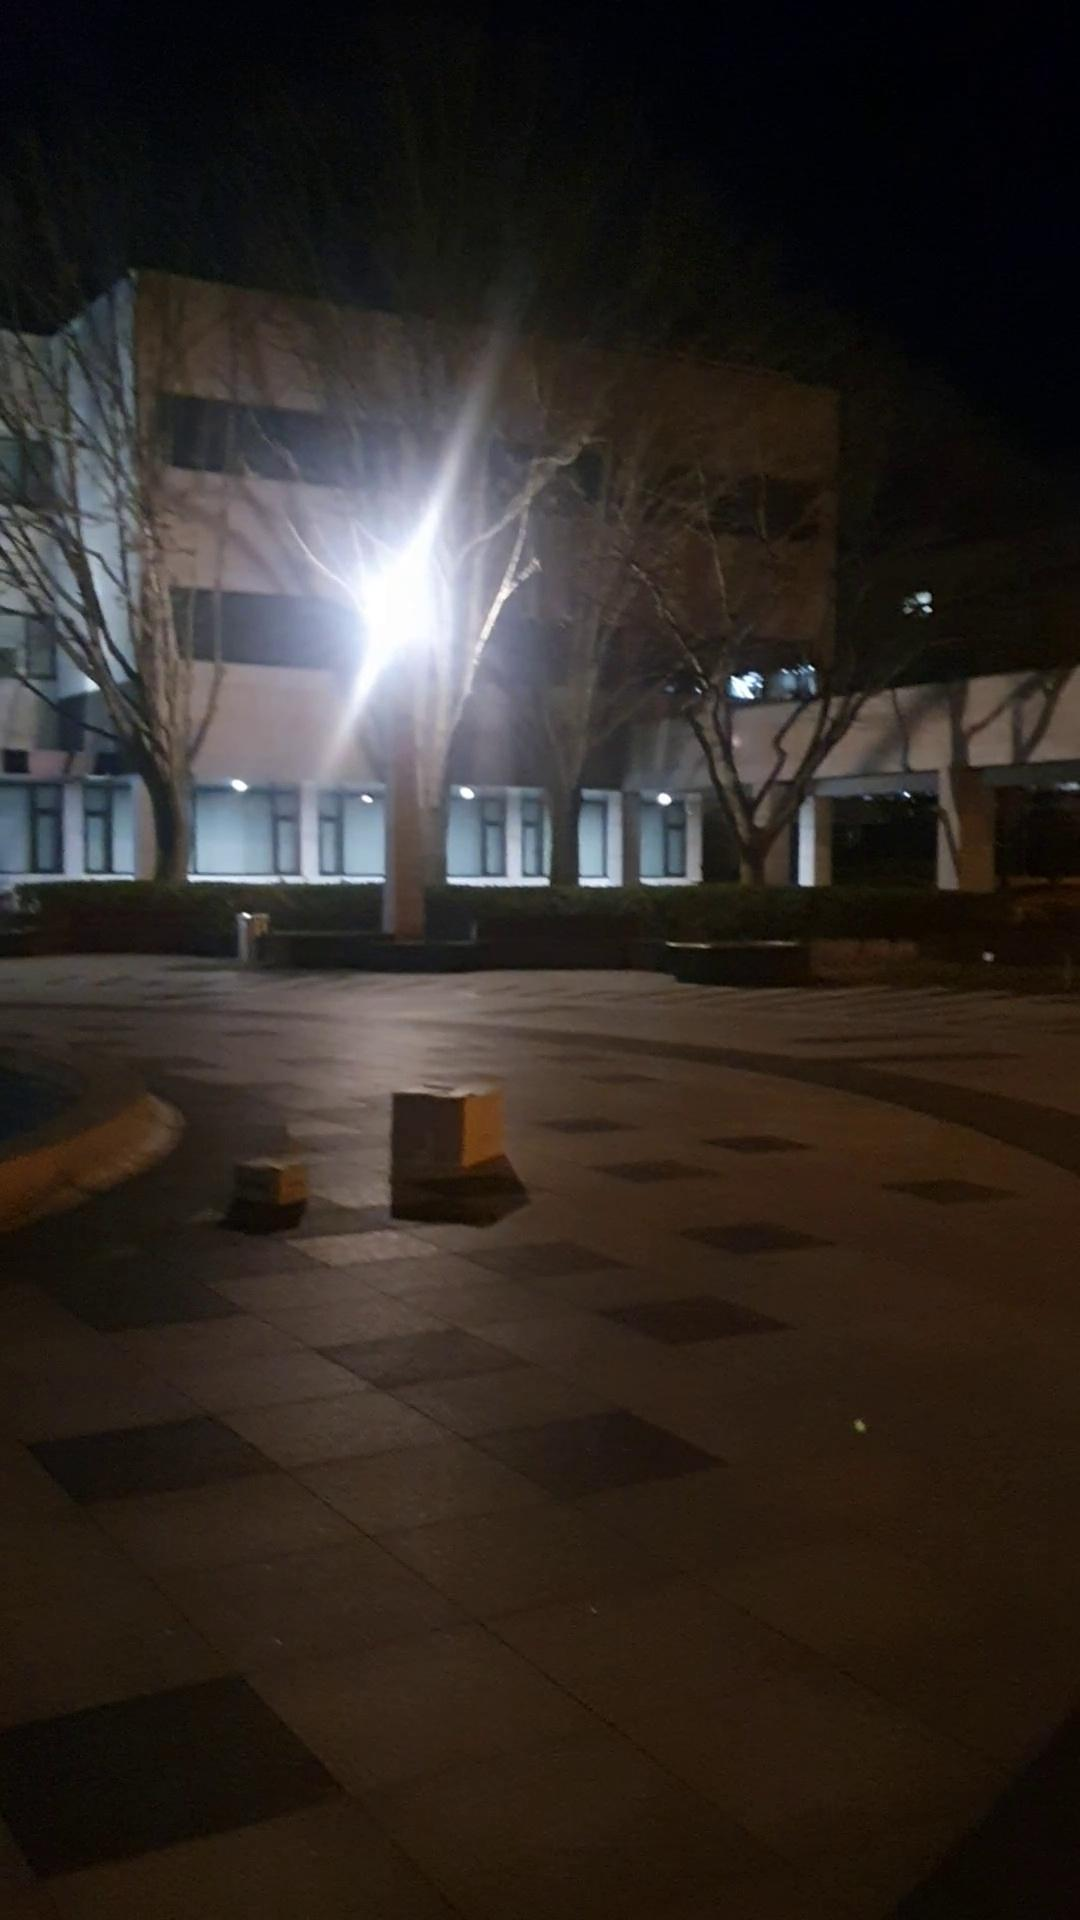Box: (388, 1077, 510, 1185), (231, 1149, 315, 1208)
